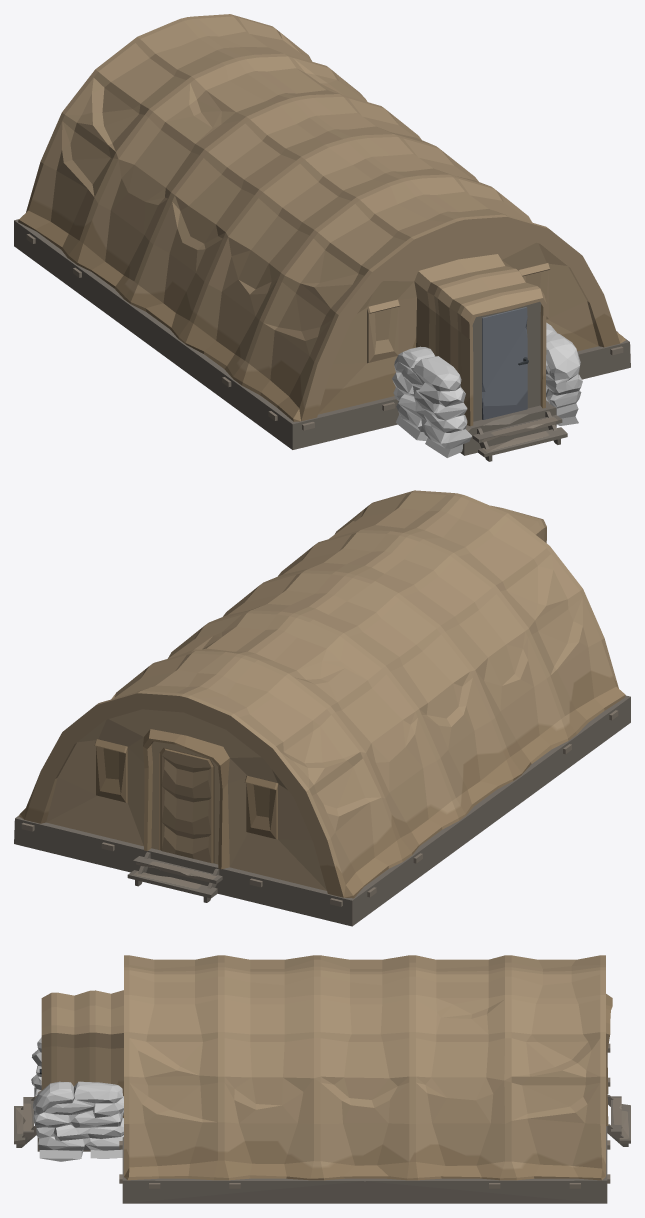
File: SM_Bld_Tent_Sandbags_01.fbx
3 views of the same model, one above another, from view 1: azimuth 30°, elevation 25°; view 2: azimuth 150°, elevation 25°; view 3: azimuth 270°, elevation 25° (orthographic). The views are drawn at different scales.
Parts seen in each view (by area): view 1: SM_Bld_Tent_Sandbags_01, SM_Bld_Tent_Sandbags_Door_01; view 2: SM_Bld_Tent_Sandbags_01, SM_Bld_Tent_Sandbags_Door_02; view 3: SM_Bld_Tent_Sandbags_01.
Part boxes in pixels (x1=…): SM_Bld_Tent_Sandbags_01: x1=14, y1=14, x2=630, y2=461; SM_Bld_Tent_Sandbags_Door_01: x1=482, y1=307, x2=528, y2=419; SM_Bld_Tent_Sandbags_01: x1=14, y1=490, x2=630, y2=926; SM_Bld_Tent_Sandbags_Door_02: x1=160, y1=748, x2=213, y2=863; SM_Bld_Tent_Sandbags_01: x1=14, y1=955, x2=630, y2=1203.
Size of the model in its own units: 780 by 418 by 1395.
